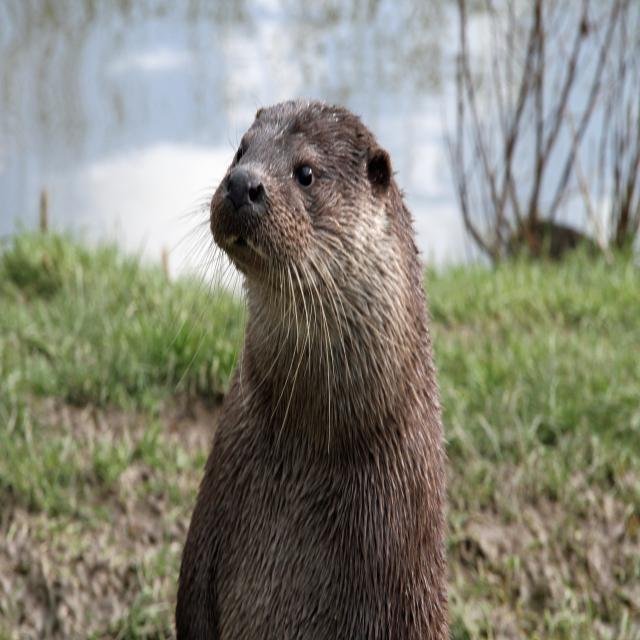otter: (180, 101, 448, 640)
